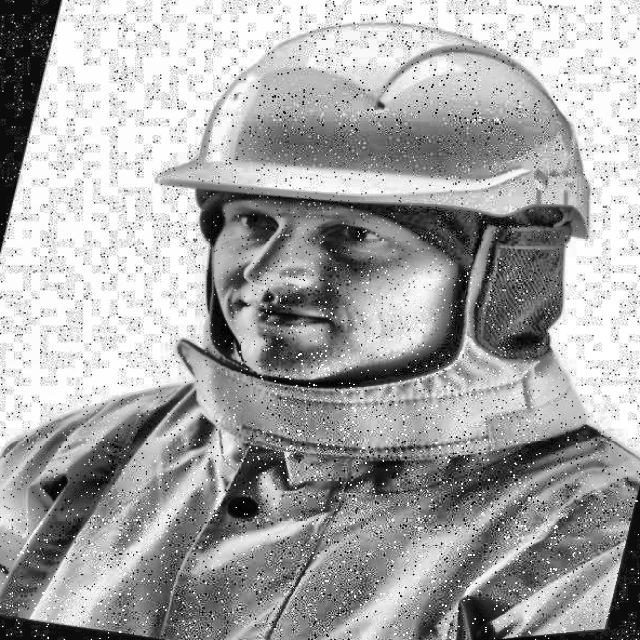Helmet: (100, 0, 640, 479)
